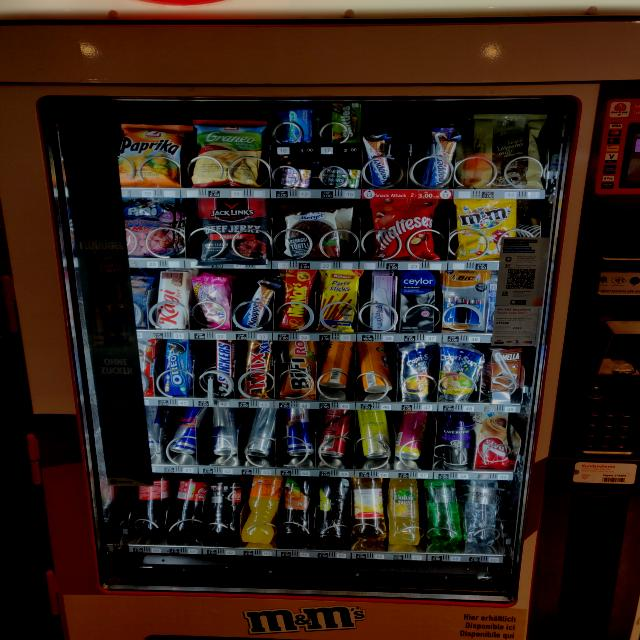7days_croissantschoko_packung_80_1_0000000000003: (468, 412, 515, 467)
airwaves_menthoneucalyptus_riegel_14_1_50173167: (275, 106, 314, 144)
bifi_roll__50__4251097402635: (279, 341, 322, 400)
c-swiss_dosenabisicetea__33__9120025930135: (360, 340, 396, 394), (321, 342, 358, 389)
caferoyal_classicmacchiato__33__7617014164487: (438, 416, 475, 468)
caprisun_multivitamin__20__4000177605004: (436, 342, 486, 403), (396, 341, 442, 401)
coke__dose_33__54491472: (316, 411, 354, 458)
coke__flasche_50__54491472: (128, 474, 172, 532), (168, 481, 209, 534)
coke_zero_flasche_50__5449000131836: (204, 477, 245, 535)
comella_schokodrink__33__7613100037253: (489, 347, 525, 394)
fanta___50__40822938: (242, 475, 282, 546)
fini_galaxymix_packung_100_1_8410525150364: (115, 196, 178, 258)
fini_jellykisses_packung_80_1_8410525116704: (187, 275, 234, 332)
fuse_lemon__50__5449000235947: (315, 478, 353, 543)
fuse_lemon_dose_33__5449000235947: (356, 410, 396, 460)
fuse_peach__50__5449000236623: (277, 473, 317, 539)
jacklinks_beefjerkyorginal__25__4047751730219: (194, 195, 272, 266)
jlbrichard_gauffrechoko__90__5410495002079: (470, 110, 552, 190)
kagi___50__7610046000259: (154, 270, 190, 329)
knoppers_riegel____4035800488808: (239, 279, 275, 333)
lorenz_nicnacs__40__4018077798818: (277, 268, 320, 332)
malburner_partysticks__40__7610200279682: (317, 270, 362, 333)
maltesers___100__5000159023061: (369, 196, 442, 261)
mnms_gelb__45__40111445: (458, 198, 522, 262)
oreo___66__84100733: (162, 339, 194, 395)
powerbar_proteinplusschoko__55__4029679520028: (123, 274, 156, 329)
ramseier_schorle__50__7610057012456: (350, 476, 387, 543)
redbull___33__90162909: (166, 408, 204, 454), (280, 409, 314, 457), (211, 409, 236, 454)
redbull_light__33__90162800: (242, 407, 278, 456)
skittles_sour_riegel_51_1_0000000000004: (328, 100, 366, 143)
snickers___50__5000159461122: (216, 337, 240, 396)
stimorol_spearmint_riegel_14_1_0000000000005: (324, 168, 362, 187)
stimorol_wildcherry_riegel_14_1_57060330: (277, 166, 314, 187)
tiki_himbeer_brause__50__00000000009342: (396, 412, 432, 462)
twix___50__5000159459228: (237, 339, 276, 399)
valser_classic__50__76404160: (423, 481, 465, 546)
valser_still__50__7610335002575: (459, 480, 501, 546)
volvic_pinapple__50__305764335648: (387, 478, 421, 547)
zweifel_graneochilli__100__7610095184009: (189, 118, 267, 188)
zweifel_paprika__90__7610095013002: (114, 126, 184, 191)
